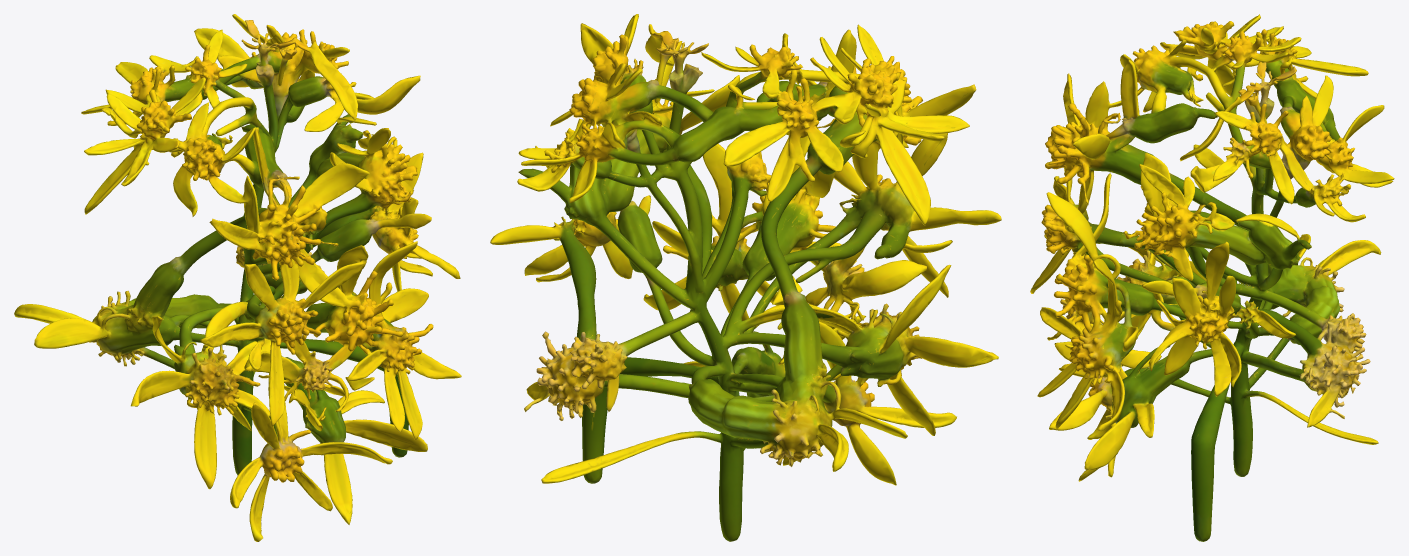
Rendered from pittocaulon.glb.
The picture shows the model from 3 angles, left to right: view 1: azimuth 30°, elevation 25°; view 2: azimuth 150°, elevation 25°; view 3: azimuth 270°, elevation 25°; orthographic projection. The views are drawn at different scales.
Parts seen in each view (by area): view 1: Mesh1.0; view 2: Mesh1.0; view 3: Mesh1.0.
Part boxes in pixels (box(x1,y1,x2,y2)): Mesh1.0: box(14, 14, 461, 541); Mesh1.0: box(490, 14, 1001, 541); Mesh1.0: box(1030, 14, 1394, 541).
Bounding box in the file's own units: 1.66 × 1.91 × 1.48.
1 material, 1 textured.
